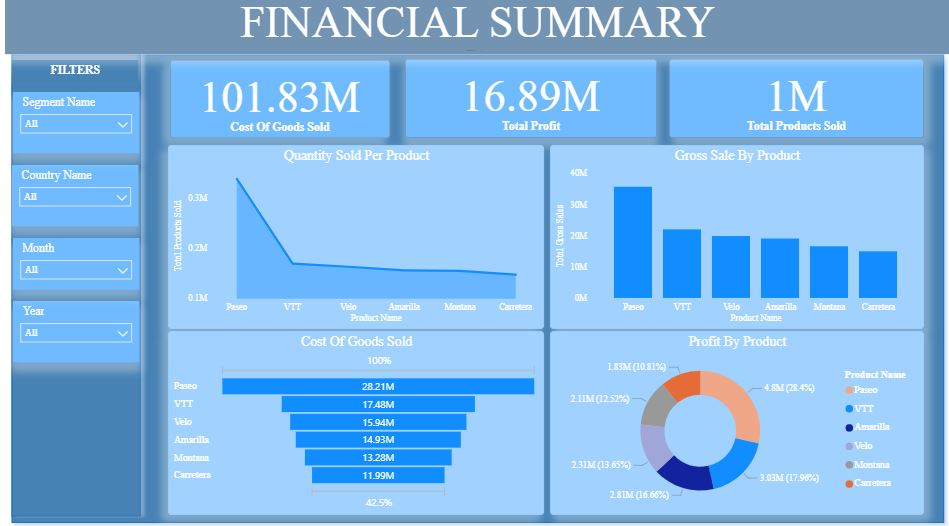

The dashboard page shown, as its layout file describes it:
{"tool":"powerbi","page":{"name":"Dashboard","canvas":[1280,720],"ordinal":0},"visuals":[{"type":"shape","box":[0,68.1,1280,651.7],"z":0},{"type":"shape","box":[0,68.1,192.6,642.9],"z":1000},{"type":"slicer","fields":{"Values":["Country.Country Name"]},"box":[9.7,225.7,171.2,82.7],"z":2000},{"type":"slicer","fields":{"Values":["Year.Year"]},"box":[10.7,409.5,171.2,82.7],"z":3000},{"type":"slicer","fields":{"Values":["Month.Month Name"]},"box":[10.7,324.9,171.2,70],"z":4000},{"type":"textbox","box":[9.7,83.7,171.2,32.1],"z":5000},{"type":"slicer","fields":{"Values":["Segment.Segment Name"]},"box":[10.7,127.4,171.2,82.7],"z":6000},{"type":"card","fields":{"Values":["Measures Table.Total Profit"]},"box":[540.8,82.7,341.4,107],"z":7000},{"type":"card","fields":{"Values":["Measures Table.Total Products Sold"]},"box":[898.7,82.7,345.3,107],"z":8000},{"type":"card","fields":{"Values":["Measures Table.Total COGS"]},"box":[222.7,83.7,297.6,106],"z":9000},{"type":"columnChart","title":"Gross Sale By Product","fields":{"Y":["Measures Table.Total Gross Sales"],"Category":["Product.Product Name"]},"box":[738.2,198.4,505.8,249],"z":10000},{"type":"areaChart","title":"Quantity Sold Per Product","fields":{"Category":["Product.Product Name"],"Y":["Measures Table.Total Products Sold"]},"box":[220.8,198.4,508.7,249],"z":11000},{"type":"donutChart","title":"Profit By Product","fields":{"Y":["Measures Table.Total Profit"],"Category":["Product.Product Name"]},"box":[738.2,451.3,505.8,249],"z":12000},{"type":"funnel","title":"Cost Of Goods Sold","fields":{"Category":["Product.Product Name"],"Y":["Measures Table.Total COGS"]},"box":[220.8,451.3,508.7,249],"z":13000},{"type":"card","fields":{"Values":["Measures Table.Title"]},"box":[0,0,1280,75.9],"z":14000}]}

Visuals, with their boxes in screenshot pixels (x1, y1, x2, y2), scaled from the page's 1280x720 canvas onto the 949x526 screenshot:
shape: bbox(0, 50, 948, 525)
shape: bbox(0, 50, 143, 519)
slicer - Country.Country Name: bbox(7, 165, 134, 225)
slicer - Year.Year: bbox(8, 299, 135, 360)
slicer - Month.Month Name: bbox(8, 237, 135, 288)
textbox: bbox(7, 61, 134, 85)
slicer - Segment.Segment Name: bbox(8, 93, 135, 153)
card - Measures Table.Total Profit: bbox(401, 60, 654, 139)
card - Measures Table.Total Products Sold: bbox(666, 60, 922, 139)
card - Measures Table.Total COGS: bbox(165, 61, 386, 139)
"Gross Sale By Product" columnChart: bbox(547, 145, 922, 327)
"Quantity Sold Per Product" areaChart: bbox(164, 145, 541, 327)
"Profit By Product" donutChart: bbox(547, 330, 922, 512)
"Cost Of Goods Sold" funnel: bbox(164, 330, 541, 512)
card - Measures Table.Title: bbox(0, 0, 948, 55)
